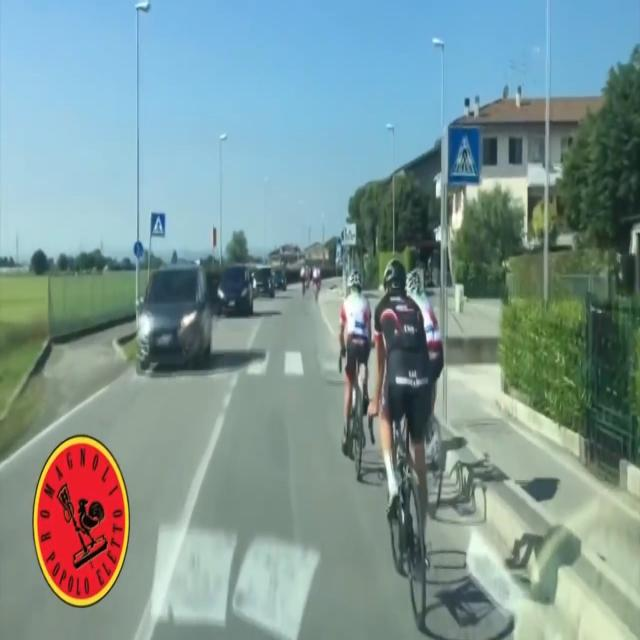Pedestrian crosswalk: (207, 343, 357, 381), (446, 122, 483, 186), (150, 209, 166, 239)
